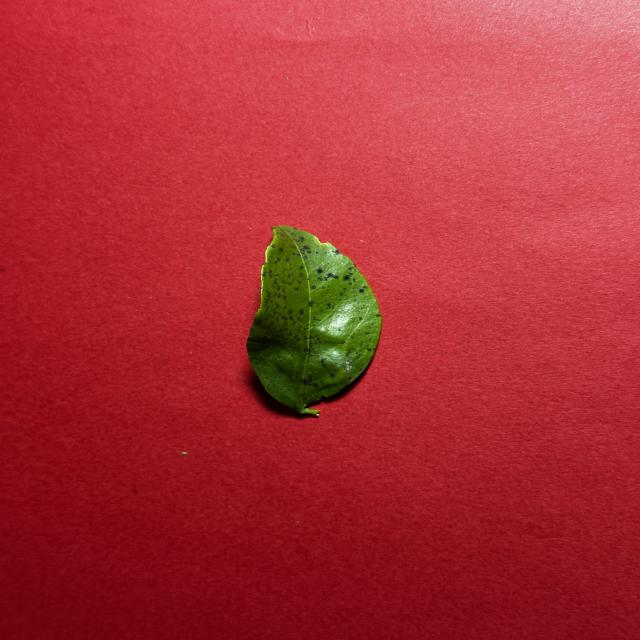sooty_mold: (247, 226, 381, 415)
